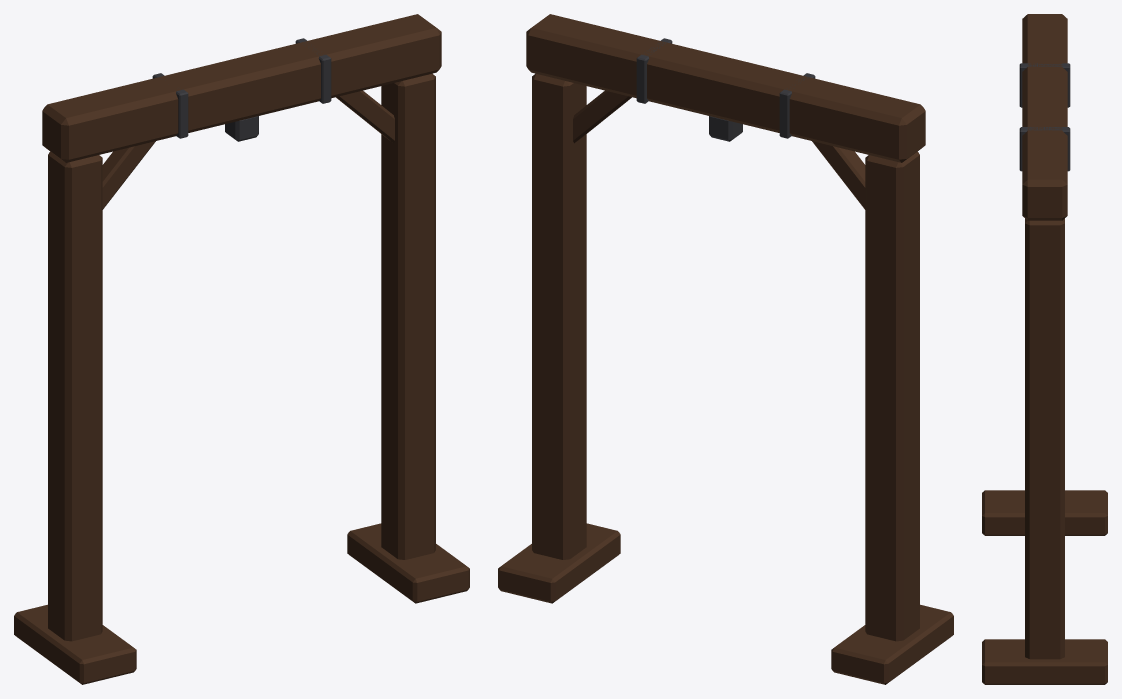
The model's file is Prop_Lab_EchoBell_Frame.glb.
3 renders of one model, left to right at view 1: azimuth 30°, elevation 25°; view 2: azimuth 150°, elevation 25°; view 3: azimuth 270°, elevation 25°, orthographic. The views are drawn at different scales.
Visible parts, largest first — view 1: Prop_Lab_EchoBell_Frame; view 2: Prop_Lab_EchoBell_Frame; view 3: Prop_Lab_EchoBell_Frame.
Part boxes in pixels (x1,y1,x2,y2): Prop_Lab_EchoBell_Frame: [14, 14, 469, 684]; Prop_Lab_EchoBell_Frame: [498, 14, 953, 684]; Prop_Lab_EchoBell_Frame: [982, 14, 1107, 684].
Size of what is drawn, in the model's own units: 1.64 by 2.2 by 0.5.
